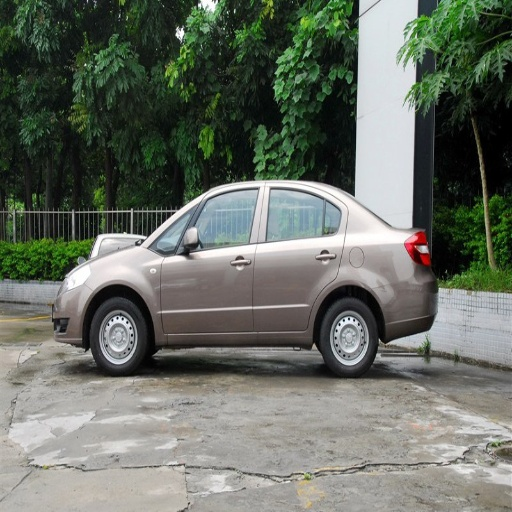back_left_door: (254, 185, 346, 332)
front_left_door: (159, 187, 265, 335)
